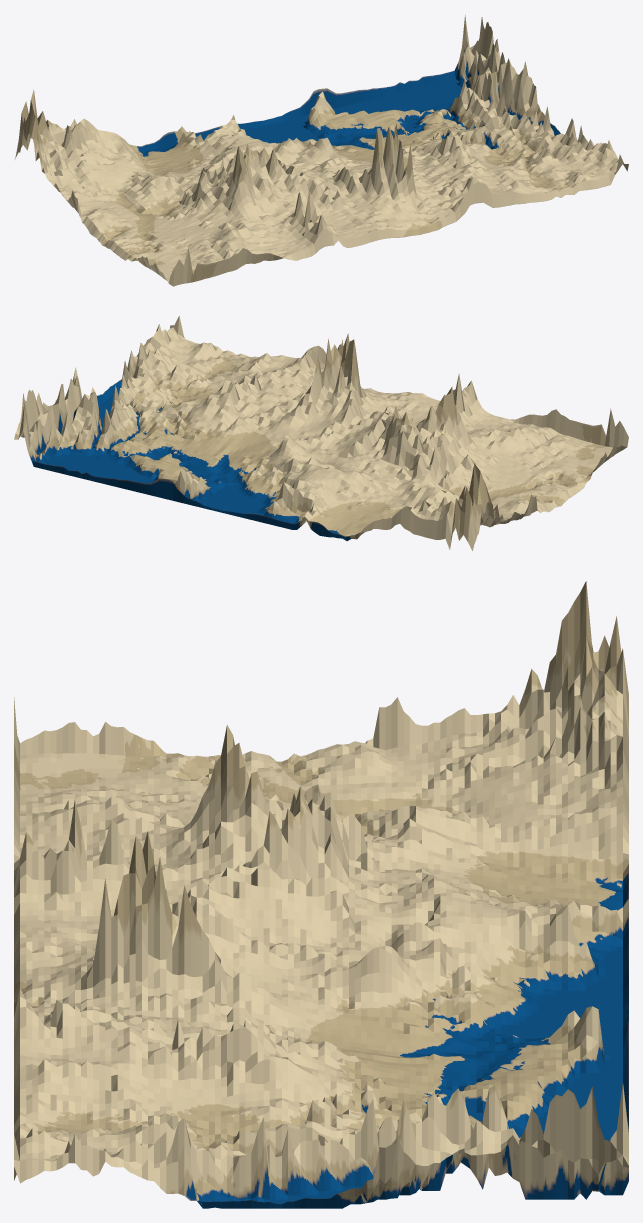
File: Dunes.fbx
3 views of the same model, one above another, from view 1: azimuth 30°, elevation 25°; view 2: azimuth 150°, elevation 25°; view 3: azimuth 270°, elevation 25° (orthographic). The views are drawn at different scales.
Visible parts, largest first — view 1: Plane; view 2: Plane; view 3: Plane.
Boxes of the visible parts, x1,y1,x2,y2 form: Plane: (14,15,628,286); Plane: (14,315,628,550); Plane: (14,581,628,1208).
Size of the model in its own units: 4700 by 1000 by 2775.
